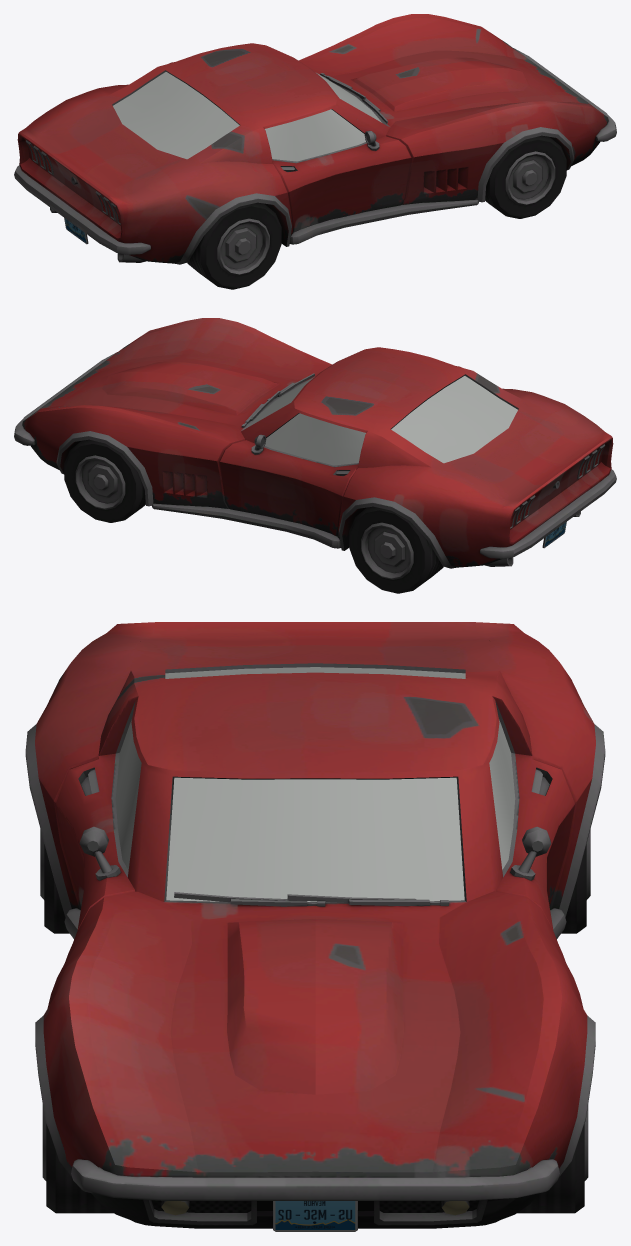
File: muscle_car.dae
3 views of the same model, one above another, from view 1: azimuth 30°, elevation 25°; view 2: azimuth 150°, elevation 25°; view 3: azimuth 270°, elevation 25° (orthographic). The views are drawn at different scales.
Visible parts, largest first — view 1: us_muscle_car_02; view 2: us_muscle_car_02; view 3: us_muscle_car_02.
Boxes of the visible parts, <box> form: us_muscle_car_02: <box>14,14,616,289</box>; us_muscle_car_02: <box>14,318,616,593</box>; us_muscle_car_02: <box>25,622,605,1231</box>.
Bounding box in the file's own units: 5.01 × 2.48 × 1.37.
Materials: 2 (2 with a texture image).
